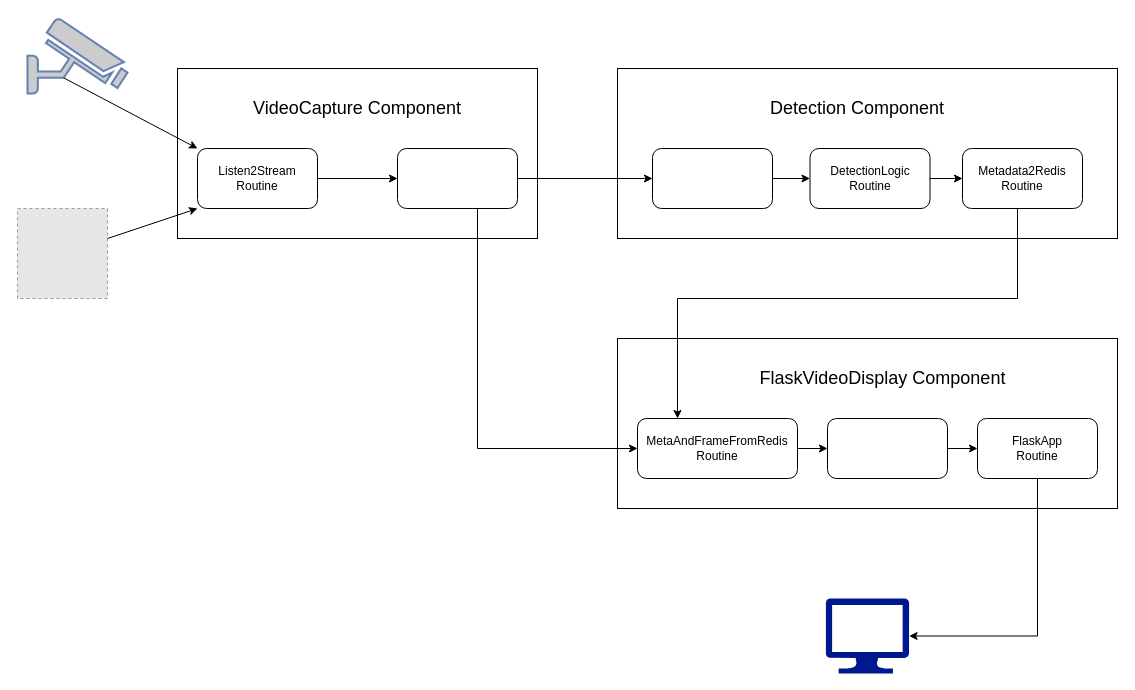
Some shapes in this 1135 by 690 pixel diagram are drawn without their labels. Grey dashed boxes stand in for pictures. The centre of each missing label's shape, as x and y in pixels:
Frames2Redis Routine: (457,178)
FramesFromRedis Routine: (712,178)
VisualLogic Routine: (887,448)
